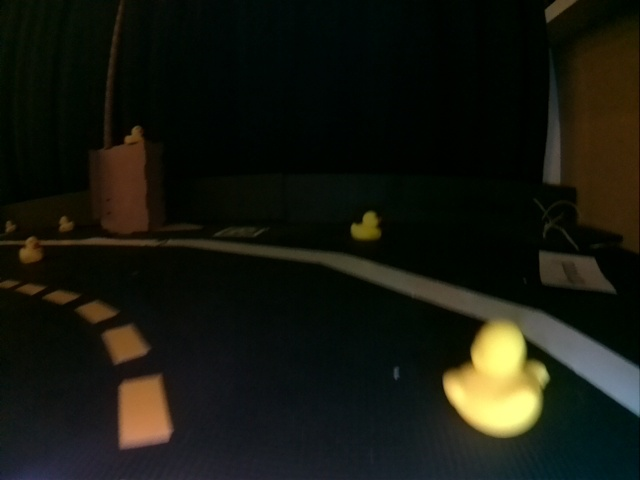Duckie: (444, 321, 545, 434), (351, 211, 384, 240), (20, 238, 43, 263), (125, 125, 145, 144), (55, 216, 75, 233)
QR code: (218, 225, 267, 237)
